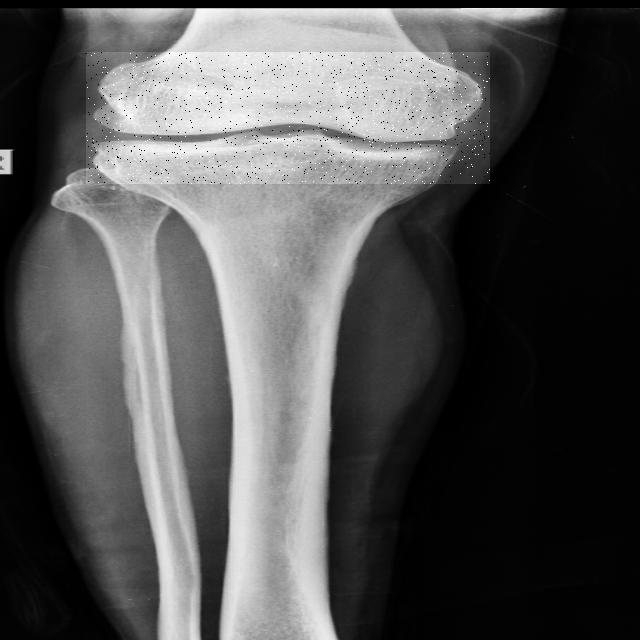normal: (86, 52, 490, 184)
